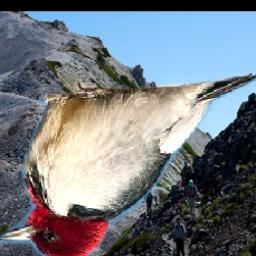Woodpecker: (0, 73, 256, 256)
